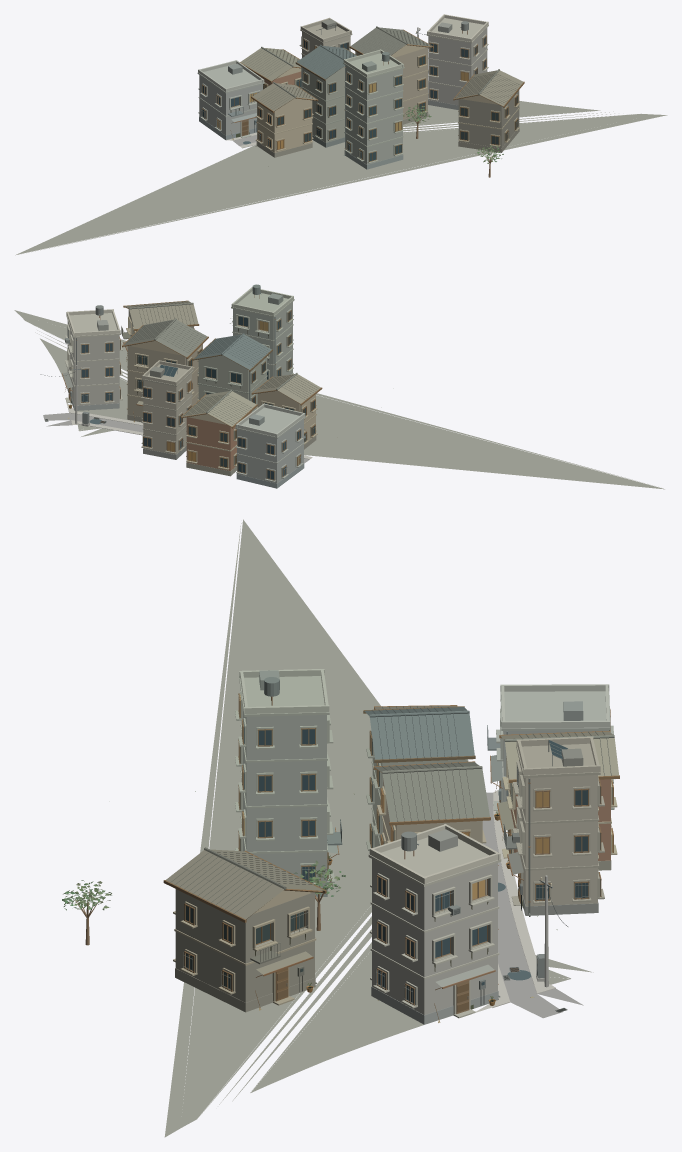
Rendered from street_2_6.glb.
3 renders of one model, top to bottom at view 1: azimuth 30°, elevation 25°; view 2: azimuth 150°, elevation 25°; view 3: azimuth 270°, elevation 25°, orthographic. The views are drawn at different scales.
Visible parts, largest first — view 1: ground.022, concrete.031, trim.039, plaster.039, roof_metal.039, graybrick.038, wood.039, roof_tile.041, metal.039, glass.039, leaf.025; view 2: ground.022, concrete.031, trim.039, plaster.039, roof_metal.039, roof_tile.041, wood.039, metal.039, glass.039, brick.028, graybrick.038, road.038 (+1 smaller); view 3: ground.022, trim.039, concrete.031, plaster.039, graybrick.038, roof_tile.041, roof_metal.039, wood.039, metal.039, glass.039, road.038, paving.014 (+2 smaller).
Part boxes in pixels (x1=…): ground.022: x1=15, y1=95, x2=667, y2=255; concrete.031: x1=199, y1=27, x2=487, y2=164; trim.039: x1=197, y1=18, x2=519, y2=163; plaster.039: x1=198, y1=14, x2=497, y2=152; roof_metal.039: x1=228, y1=19, x2=523, y2=122; graybrick.038: x1=199, y1=90, x2=519, y2=169; wood.039: x1=202, y1=29, x2=524, y2=177; roof_tile.041: x1=261, y1=26, x2=499, y2=97; metal.039: x1=201, y1=21, x2=520, y2=159; glass.039: x1=202, y1=36, x2=517, y2=160; leaf.025: x1=403, y1=105, x2=503, y2=163; ground.022: x1=14, y1=310, x2=664, y2=489; concrete.031: x1=67, y1=302, x2=303, y2=483; trim.039: x1=65, y1=291, x2=317, y2=482; plaster.039: x1=66, y1=287, x2=315, y2=454; roof_metal.039: x1=62, y1=293, x2=320, y2=426; roof_tile.041: x1=123, y1=302, x2=297, y2=413; wood.039: x1=65, y1=300, x2=322, y2=480; metal.039: x1=65, y1=284, x2=319, y2=476; glass.039: x1=70, y1=311, x2=314, y2=479; brick.028: x1=186, y1=412, x2=251, y2=470; graybrick.038: x1=67, y1=309, x2=316, y2=488; road.038: x1=43, y1=413, x2=309, y2=463; ground.022: x1=164, y1=519, x2=593, y2=1137; trim.039: x1=173, y1=676, x2=617, y2=1018; concrete.031: x1=241, y1=709, x2=607, y2=1014; plaster.039: x1=239, y1=669, x2=610, y2=914; graybrick.038: x1=175, y1=831, x2=611, y2=1024; roof_tile.041: x1=204, y1=707, x2=614, y2=889; roof_metal.039: x1=166, y1=670, x2=619, y2=987; wood.039: x1=75, y1=693, x2=619, y2=1018; metal.039: x1=170, y1=677, x2=611, y2=1005; glass.039: x1=185, y1=720, x2=612, y2=1004; road.038: x1=482, y1=792, x2=583, y2=1018; paving.014: x1=472, y1=789, x2=555, y2=1013.
Size of the model in its own units: 90.67 by 14.22 by 34.53.
